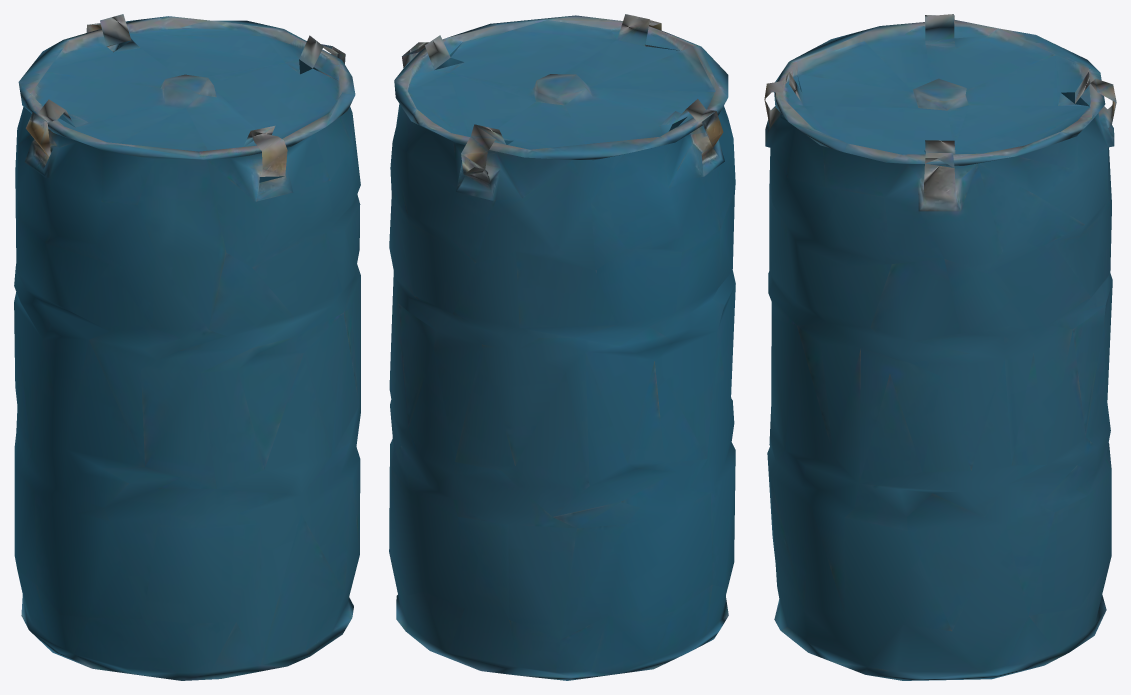
3 renders of one model, left to right at view 1: azimuth 30°, elevation 25°; view 2: azimuth 150°, elevation 25°; view 3: azimuth 270°, elevation 25°, orthographic.
Size of the model in its own units: 1.13 by 1.89 by 1.13.
Materials: 1 (1 with a texture image).
